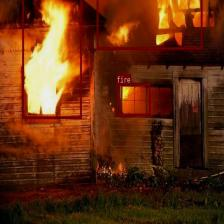fire: (22, 0, 81, 118), (96, 0, 202, 49), (116, 83, 150, 116)
